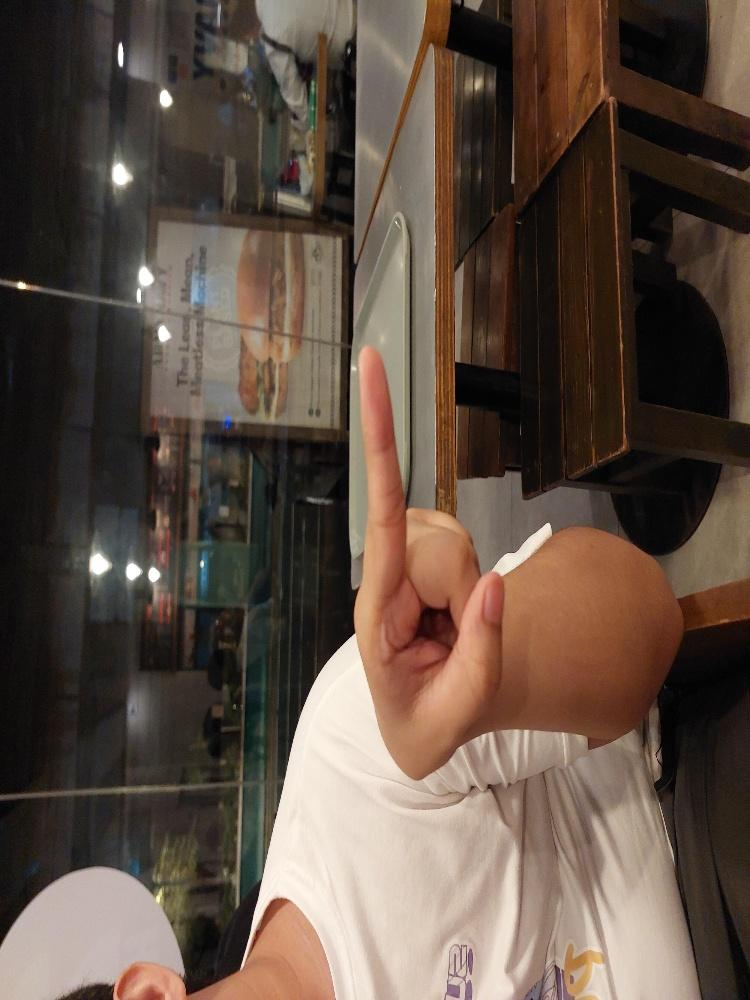z: (159, 467, 493, 674)
